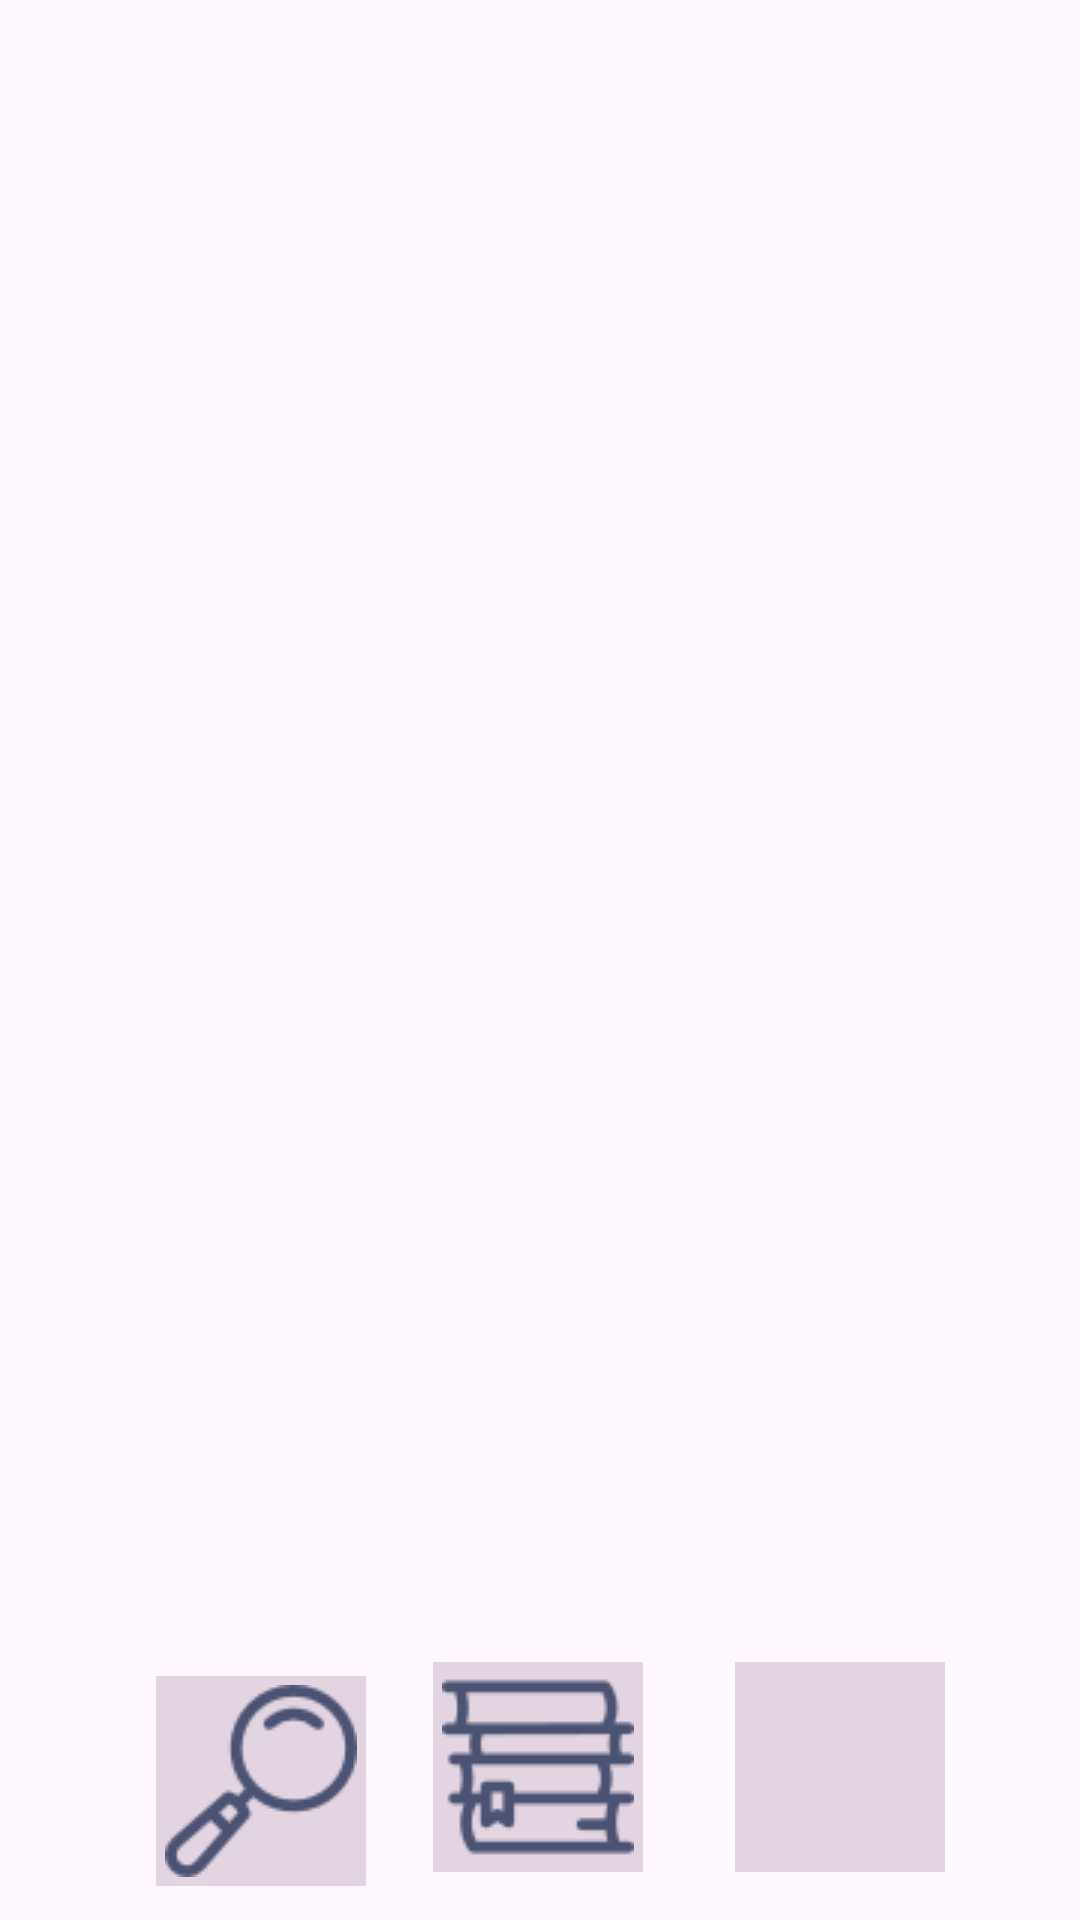

Locate icon controls on the screen. Image size 1080 × 1920, boxes as (x1, y1, x2, y2).
Botón para acceder a tus listas de libros: (433, 1662, 643, 1872)
Botón para buscar nuevos libros: (156, 1676, 366, 1886)
